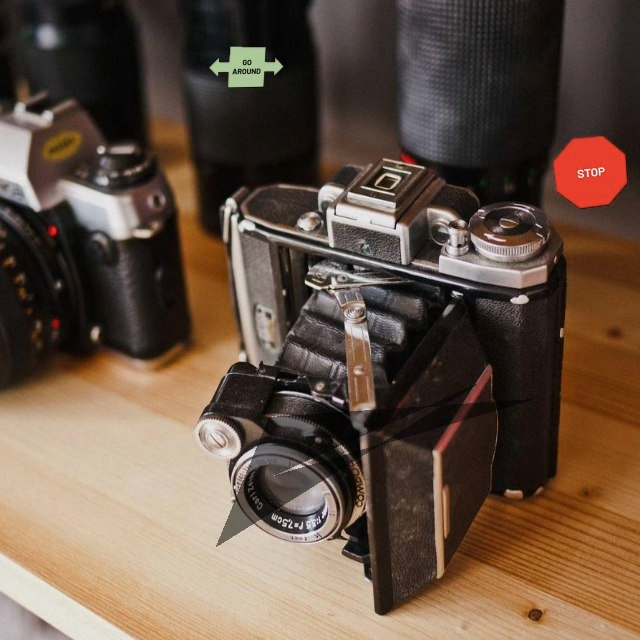GO_AROUND: (208, 46, 284, 88)
STOP: (552, 135, 628, 209)
